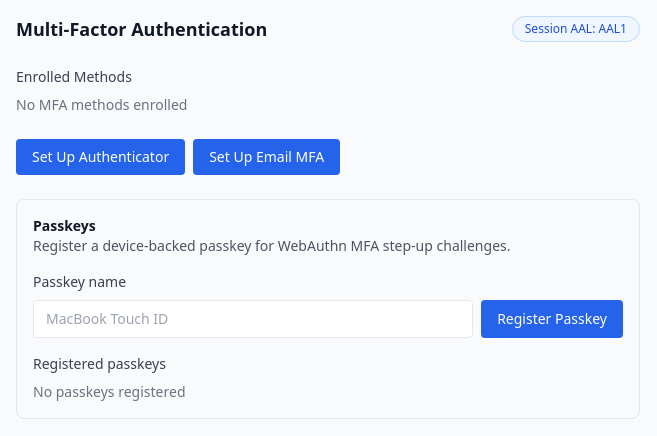
Test case: MFAEnrollment › TOTP enrollment › starts TOTP enrollment and shows secret + QR URI
Click the button "Set Up Authenticator" at x=101, y=157, box [16, 139, 185, 175]
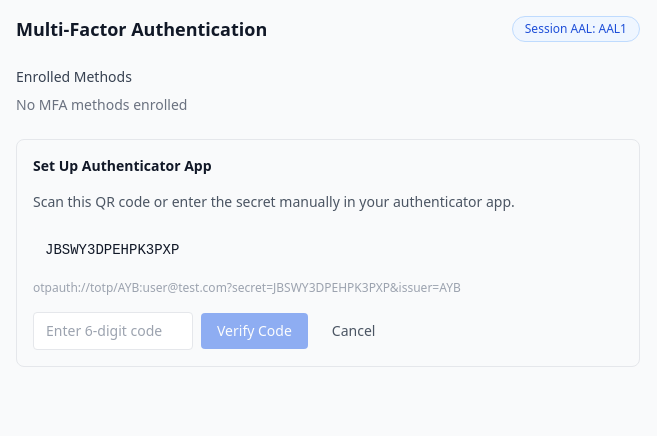
Result: the text "JBSWY3DPEHPK3PXP" is shown at [33, 228, 623, 272]
Result: the text with test id "totp-uri" reads "otpauth://totp/AYB:user@test.com?secret=JBSWY3DPEHPK3PXP&issuer=AYB" at [33, 279, 461, 296]
